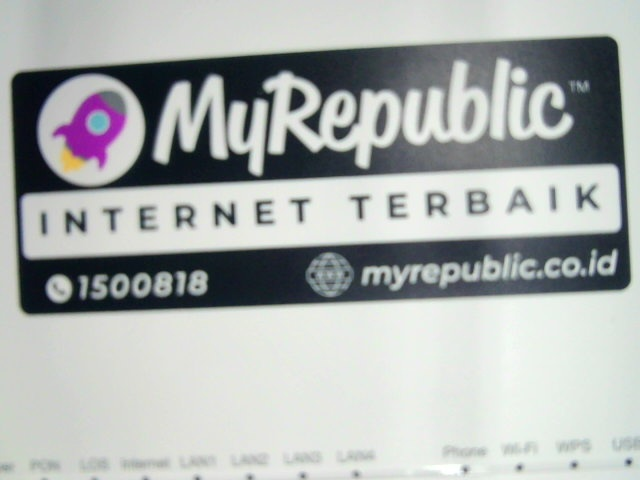BD_MyRepublic: (4, 31, 638, 306)
